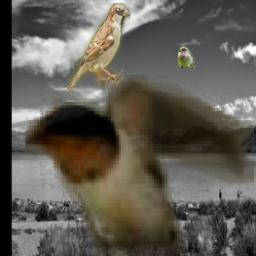Sparrow: (66, 5, 129, 94), (177, 48, 194, 69)
Swallow: (24, 75, 253, 256)
